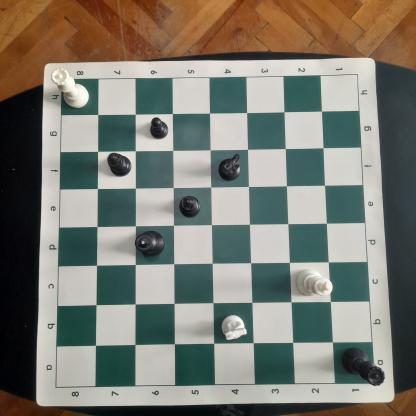black-bishop: (107, 150, 134, 178), (177, 194, 205, 220)
black-king: (133, 229, 168, 258)
black-knight: (216, 152, 245, 184)
black-pawn: (148, 114, 171, 141)
black-queen: (339, 343, 387, 390)
white-king: (295, 265, 334, 302)
white-knight: (220, 311, 251, 344)
white-queen: (50, 67, 92, 110)
